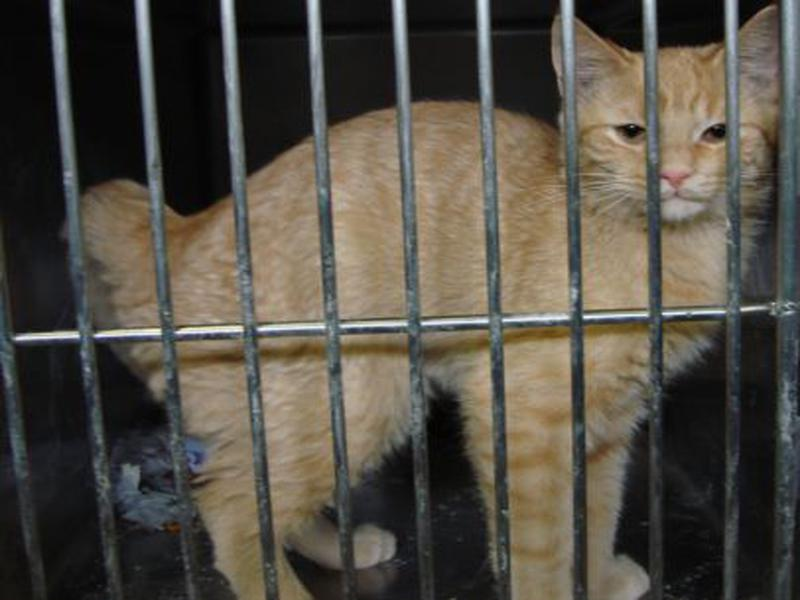cat: (54, 2, 800, 589)
